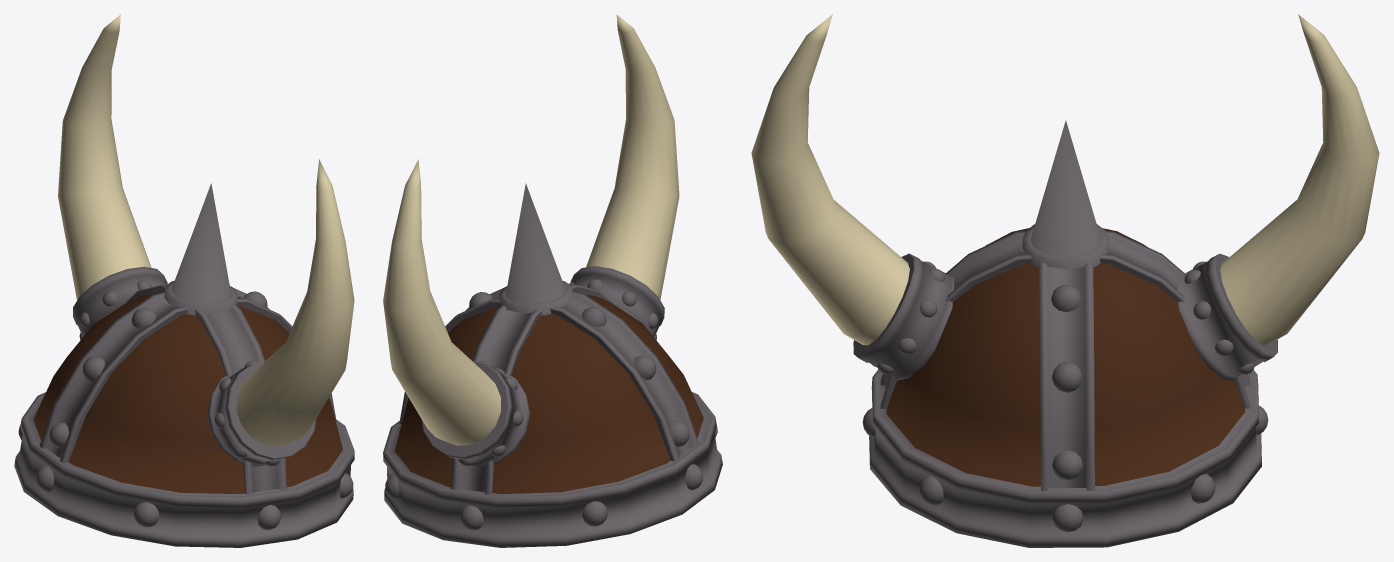
The model's file is vikinghelmet.fbx.
3 renders of one model, left to right at view 1: azimuth 30°, elevation 25°; view 2: azimuth 150°, elevation 25°; view 3: azimuth 270°, elevation 25°, orthographic. The views are drawn at different scales.
Parts seen in each view (by area): view 1: Sphere; view 2: Sphere; view 3: Sphere.
Boxes of the visible parts, left/top/right/bottom form: Sphere: left=14, top=14, right=354, bottom=547; Sphere: left=383, top=14, right=722, bottom=547; Sphere: left=751, top=14, right=1379, bottom=547.
Size of the model in its own units: 124 by 160 by 193.
